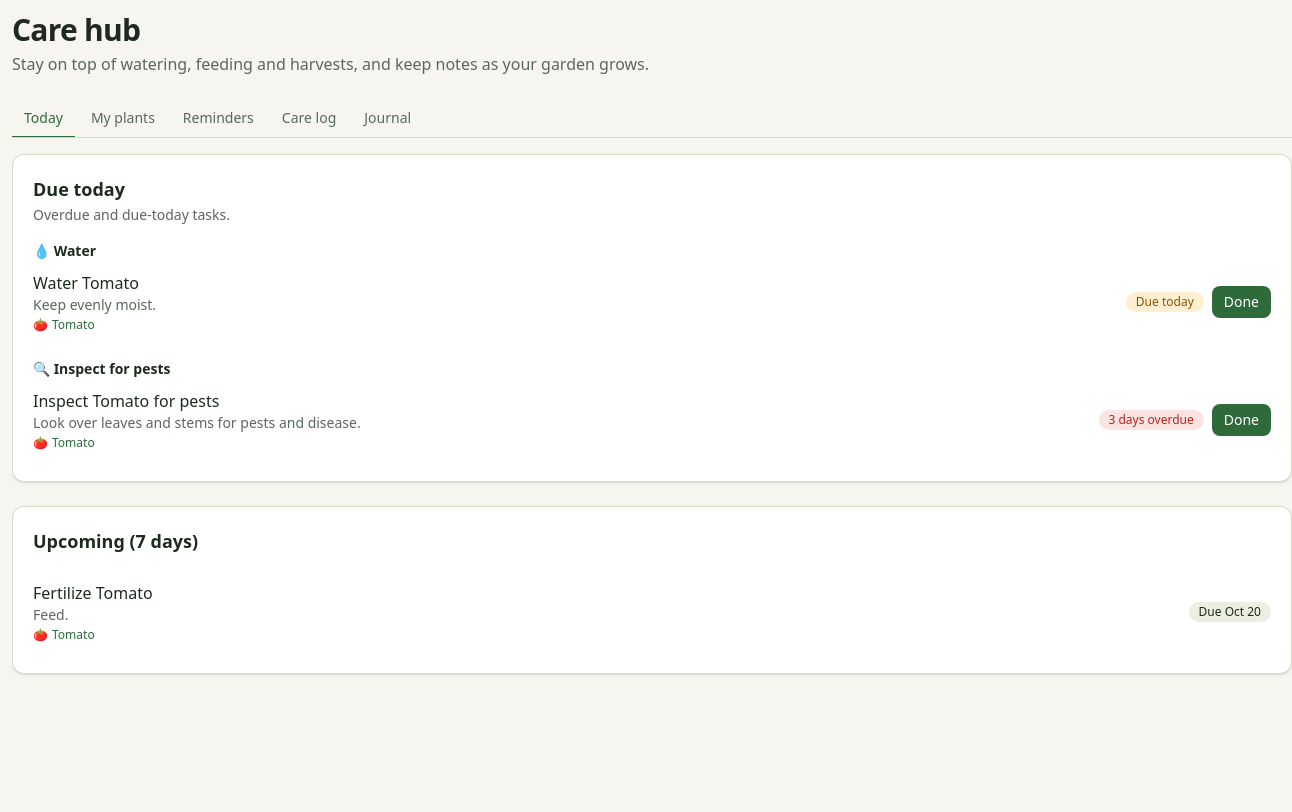
it: CarePage › Care log › lists history newest first and filters by type
The width and height of the screenshot is (1292, 812).
Click the tab "Care log": (309, 119) [270, 100, 348, 138]
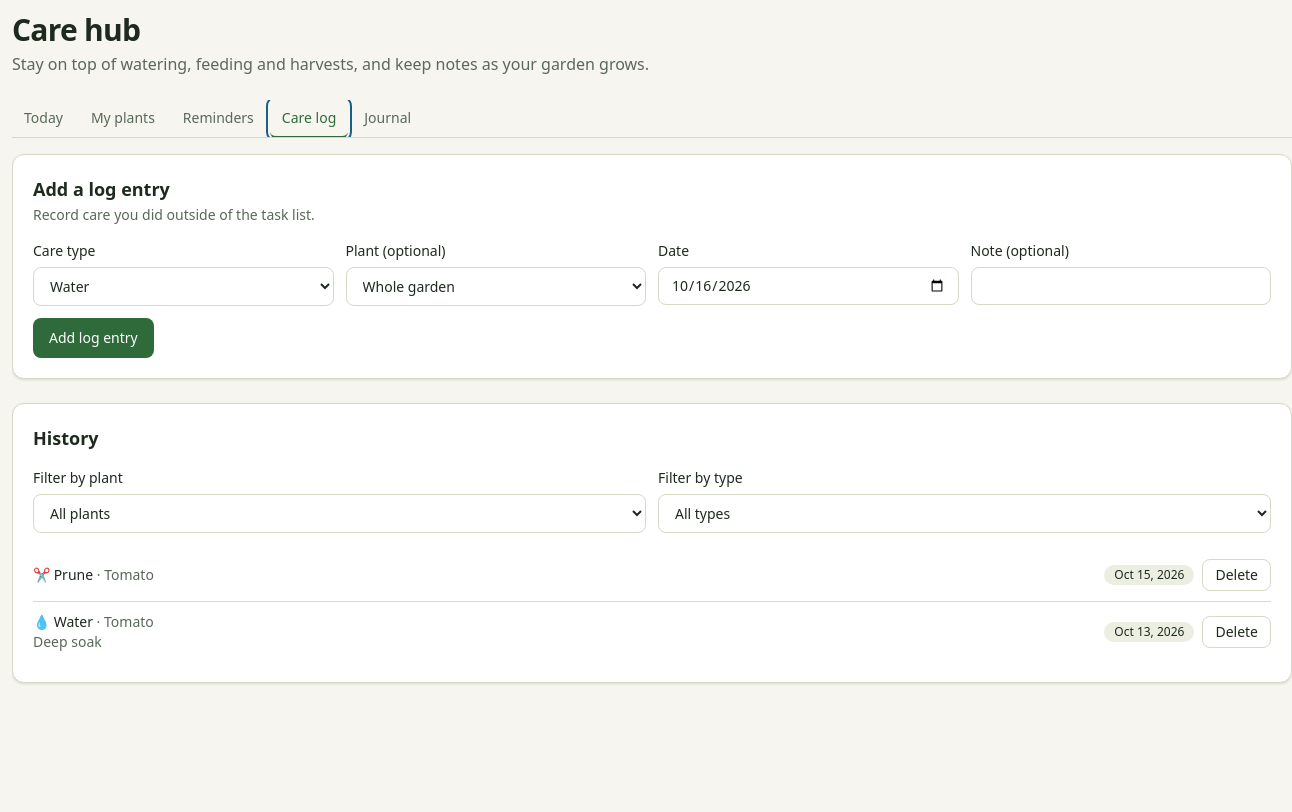
Check: the list item "✂️ Prune · Tomato Oct 15, 2026 Delete" is shown, box [33, 549, 1271, 602]
Check: the list item "💧 Water · Tomato Deep soak Oct 13, 2026 Delete" is shown, box [33, 602, 1271, 662]
Select "Water" in the dropdown labelled "Filter by type": (964, 514) [658, 494, 1271, 533]
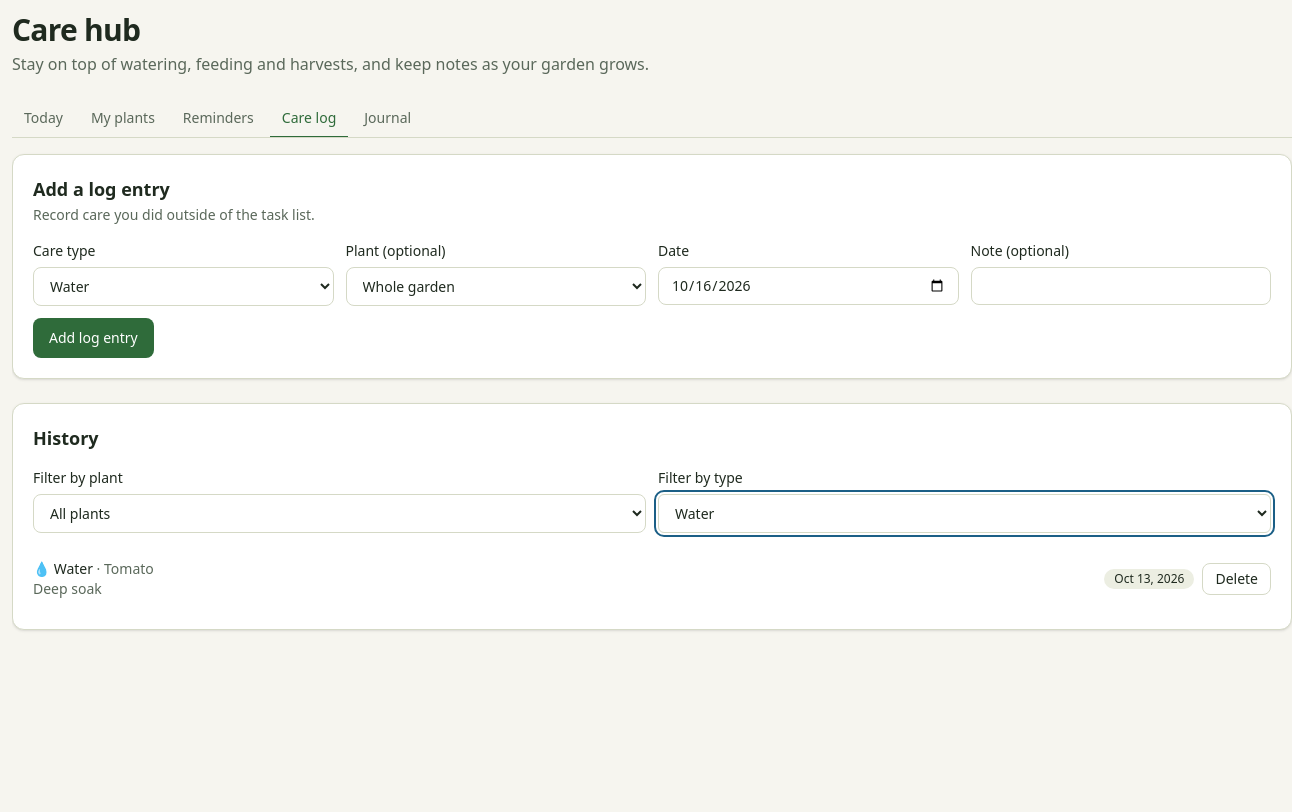
Check: the number of list items is 1, box [33, 549, 1271, 609]
